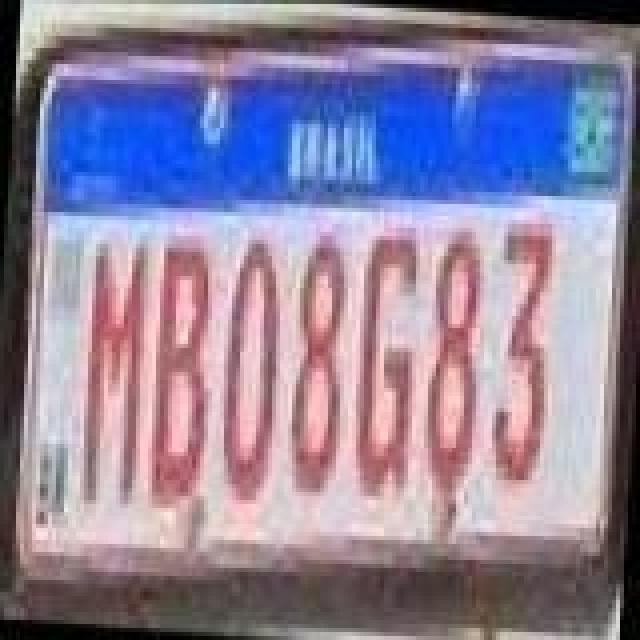3: (484, 214, 564, 498)
8: (418, 220, 494, 504), (282, 230, 358, 502)
B: (144, 236, 224, 520)
D: (210, 230, 286, 510)
G: (342, 216, 426, 508)
M: (72, 234, 152, 518)
